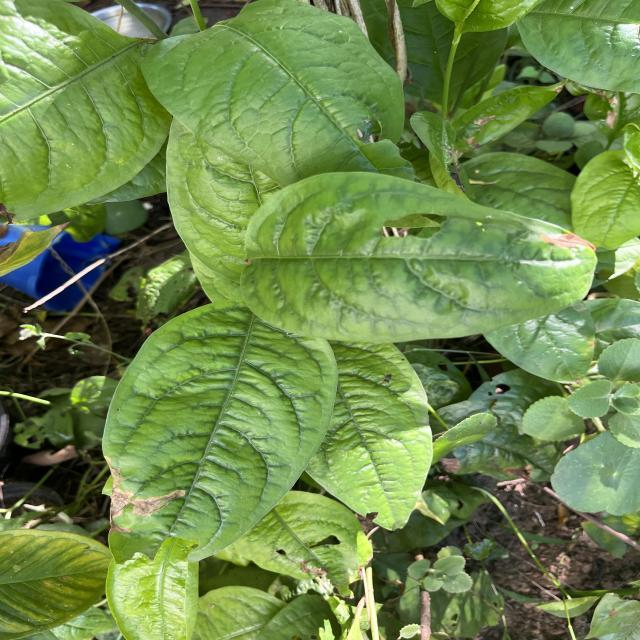Plumbago indica: (230, 166, 606, 350), (85, 302, 341, 555), (138, 0, 427, 188), (308, 336, 440, 532)
